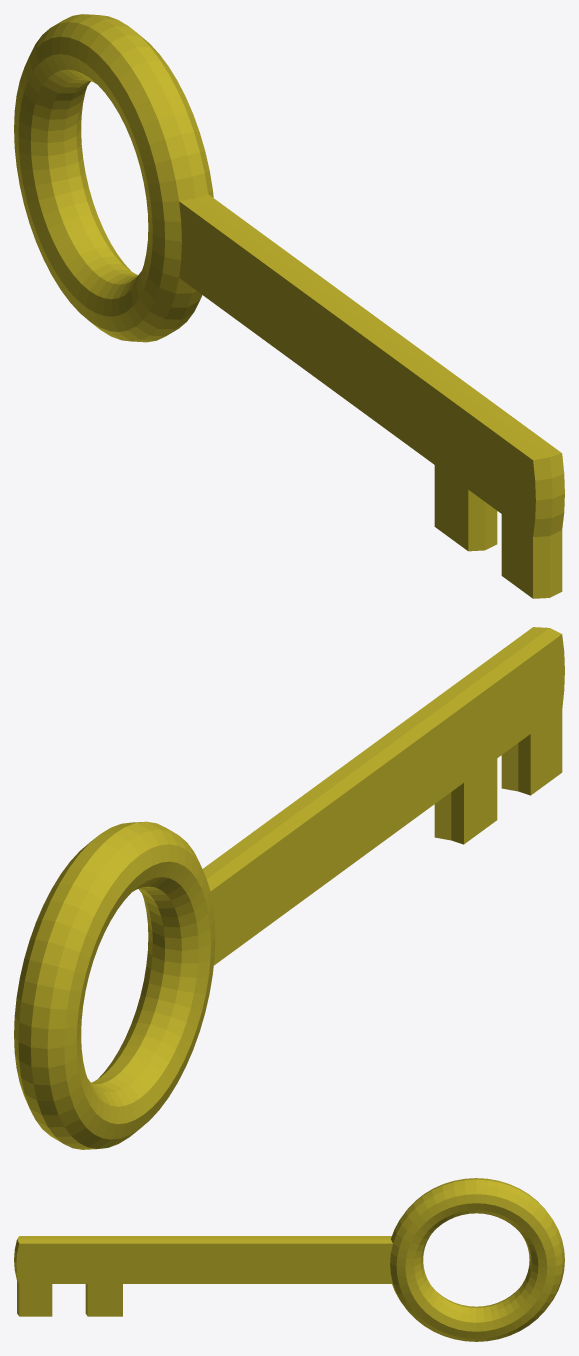
The model's file is LlaveDeCaja.fbx.
3 renders of one model, top to bottom at view 1: azimuth 30°, elevation 25°; view 2: azimuth 150°, elevation 25°; view 3: azimuth 270°, elevation 25°, orthographic. The views are drawn at different scales.
Parts seen in each view (by area): view 1: Llave; view 2: Llave; view 3: Llave.
Boxes of the visible parts, x1,y1,x2,y2 form: Llave: (14, 14, 564, 598); Llave: (14, 627, 564, 1149); Llave: (14, 1178, 564, 1341).
Size of the model in its own units: 2.15 by 10.77 by 33.47.
